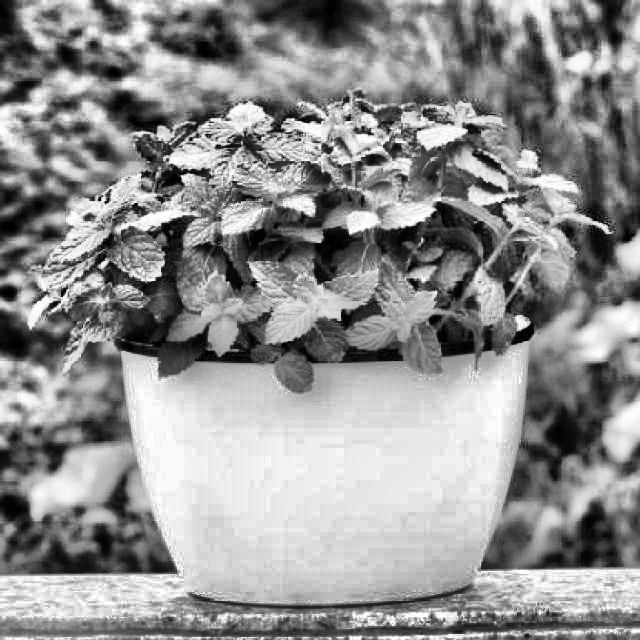plants: (109, 119, 516, 599)
